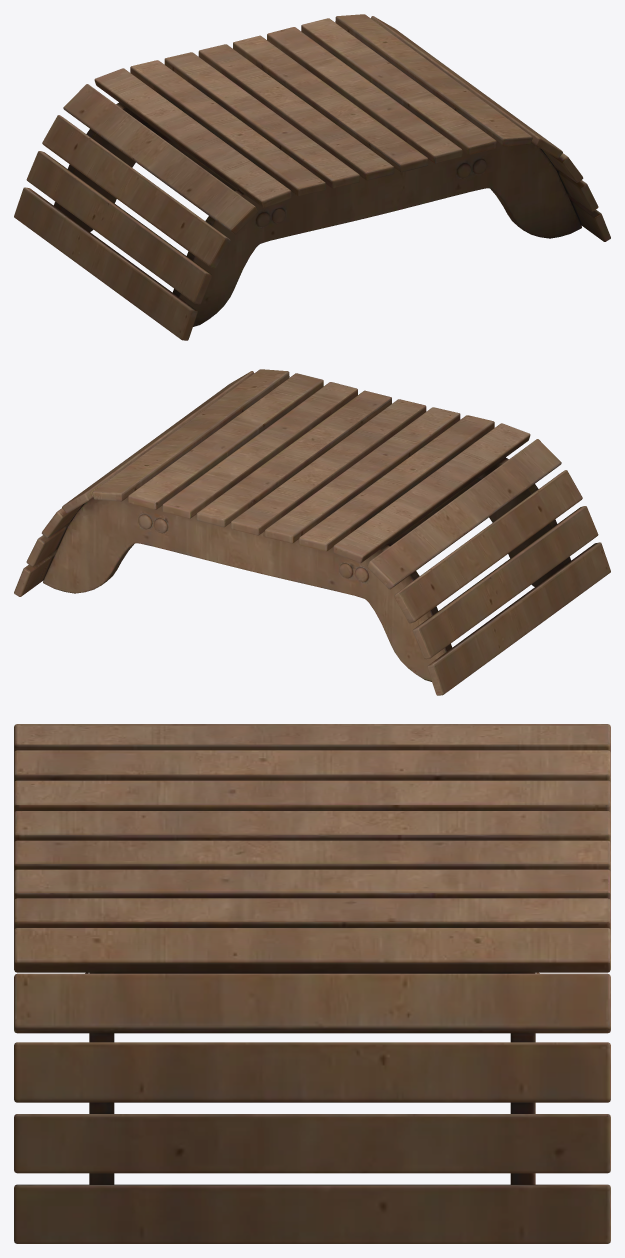
The model's file is Bakin-transformed.glb.
3 views of the same model, one above another, from view 1: azimuth 30°, elevation 25°; view 2: azimuth 150°, elevation 25°; view 3: azimuth 270°, elevation 25° (orthographic). The views are drawn at different scales.
Parts seen in each view (by area): view 1: Plane.007; view 2: Plane.007; view 3: Plane.007.
Boxes of the visible parts, x1,y1,x2,y2 form: Plane.007: [14, 14, 610, 340]; Plane.007: [14, 369, 610, 695]; Plane.007: [14, 724, 610, 1243].
Size of what is drawn, in the model's own units: 2.18 by 0.6494 by 1.48.
1 material, 1 textured.
